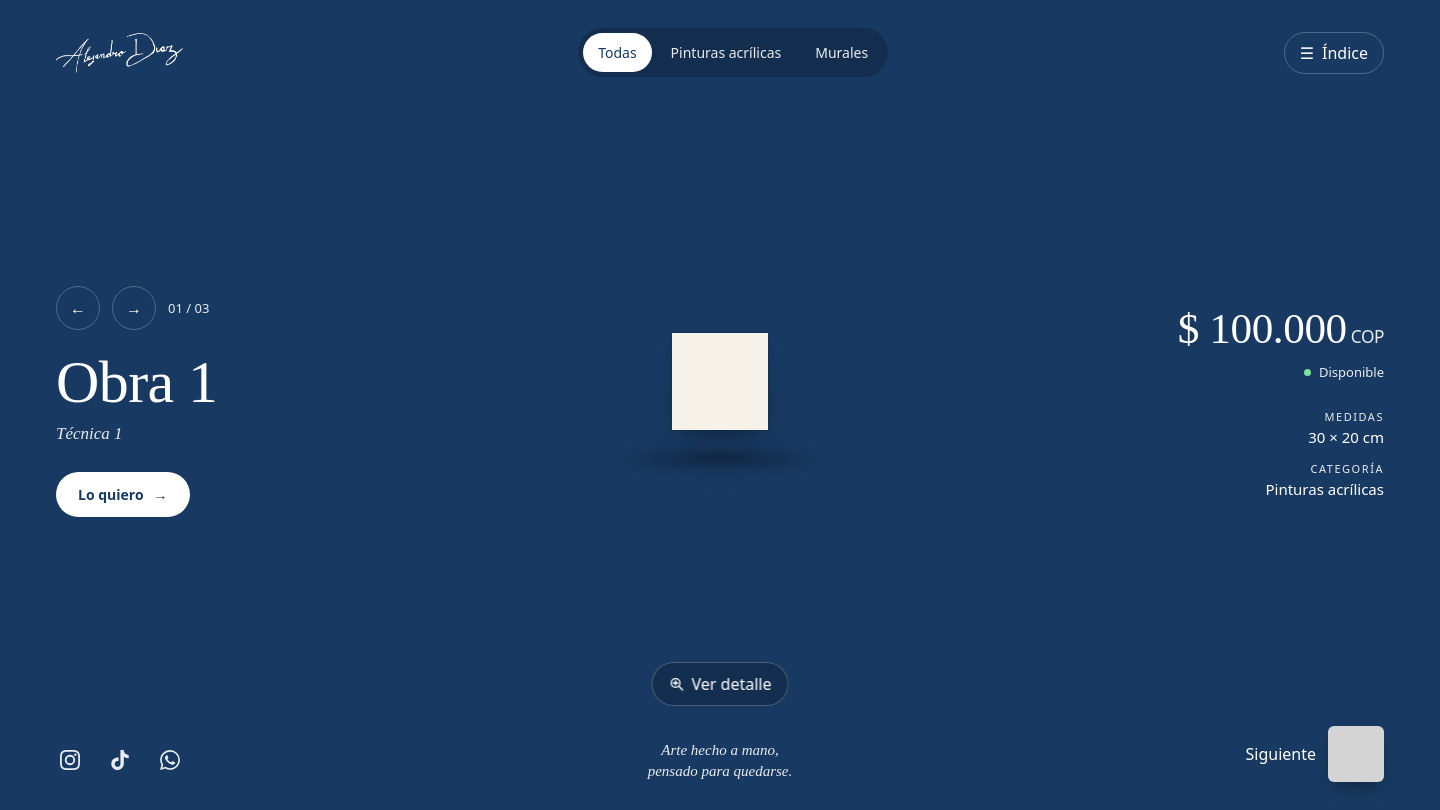
Test: las categorías filtran el recorrido y solo aparecen las que tienen obras
The image size is (1440, 810).
Expected: the heading "Obra 1" is shown, [56,352,217,414]
Step 1. Click the button "Murales" → coordinates (842, 52), box [800,33,883,72]
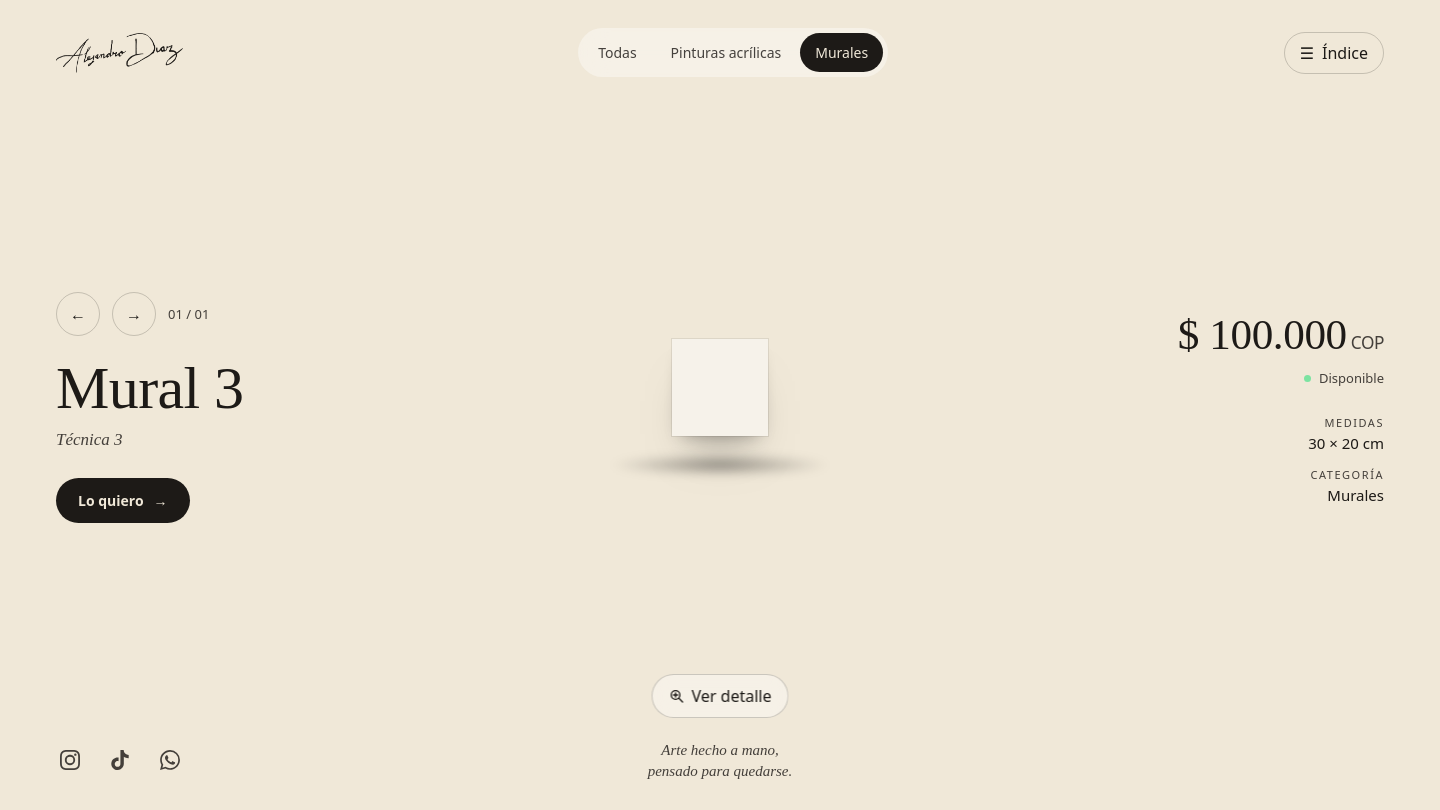
Now the heading "Mural 3" is shown, box [56,358,243,420]
Now the text "01 / 01" is shown, box [168,305,209,323]
Step 2. Click the button "Todas" → coordinates (617, 52), box [583,33,652,72]
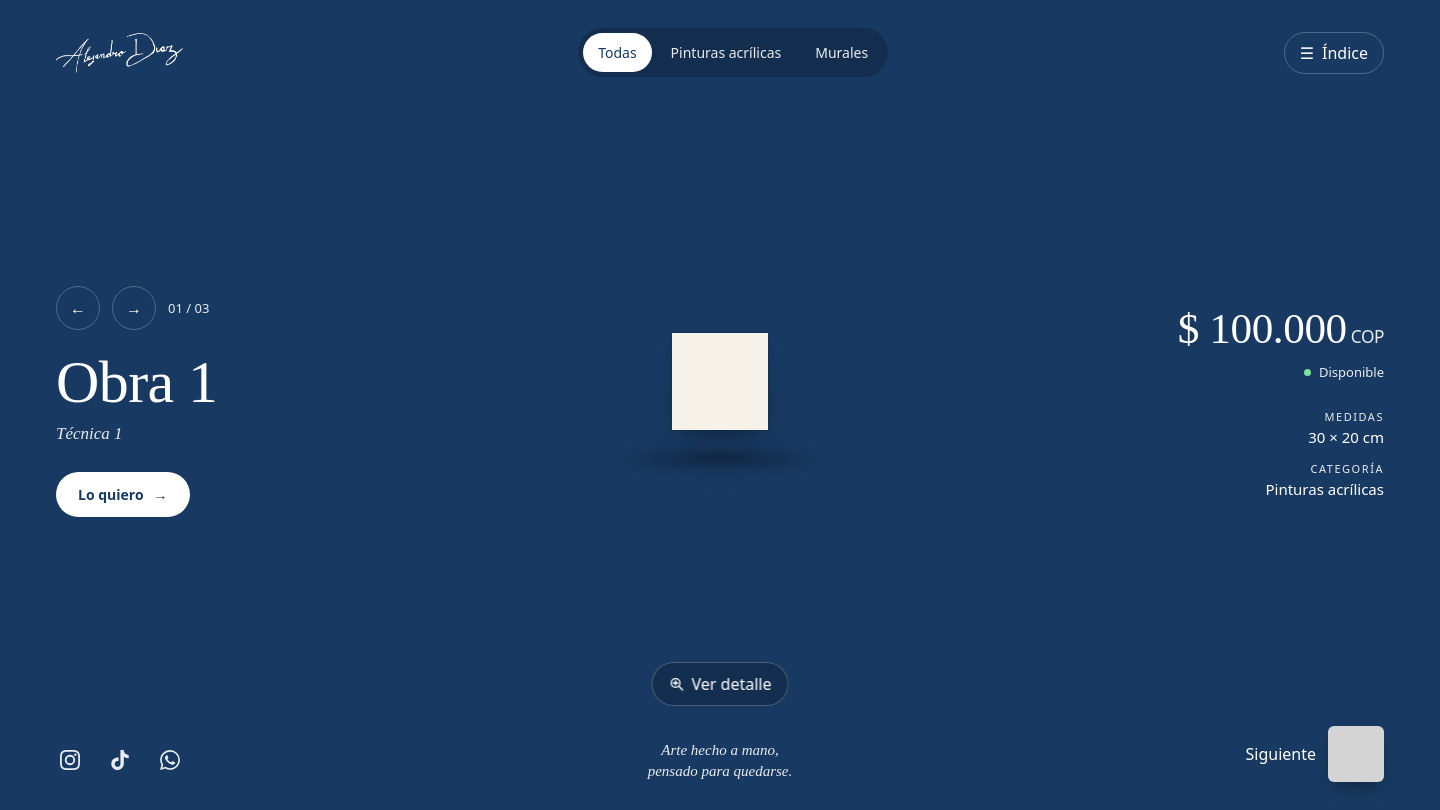
Now the text "01 / 03" is shown, box [168,299,209,317]
